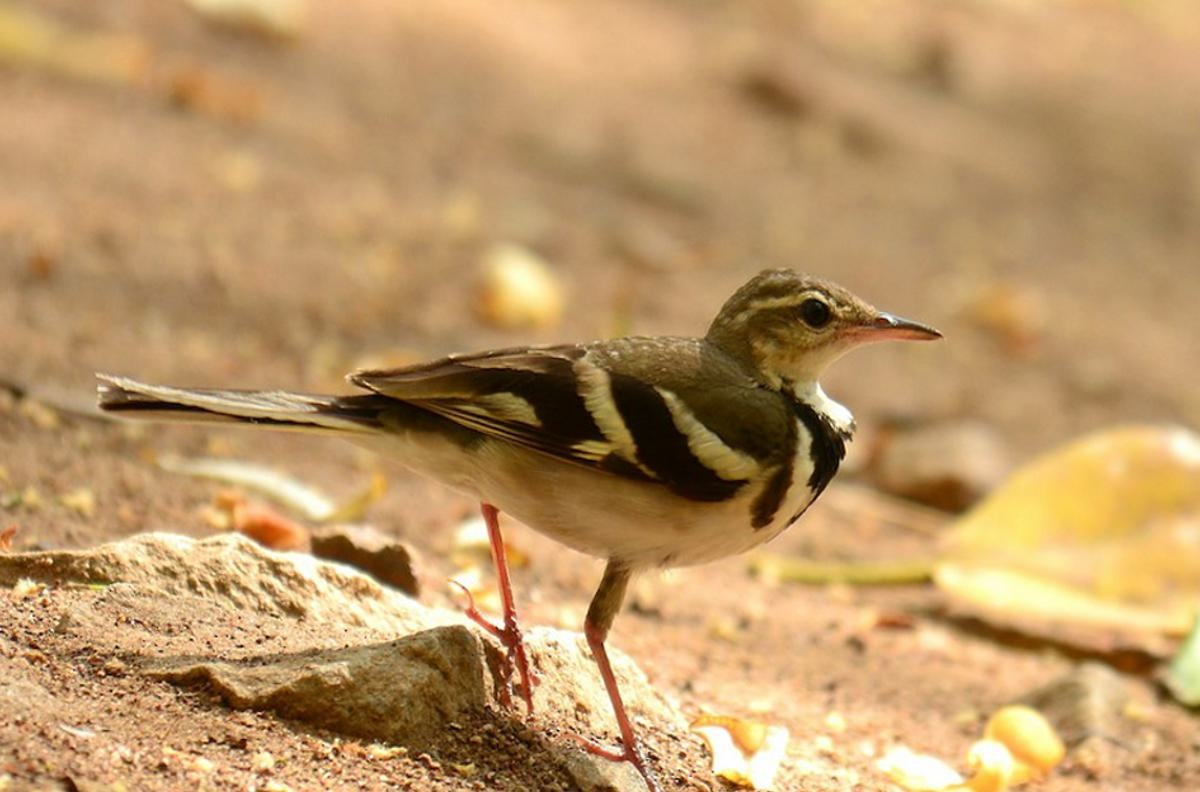wagtail: (251, 246, 963, 658)
